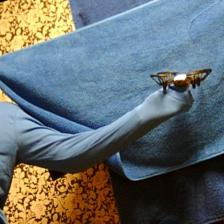drone: (150, 66, 211, 92)
